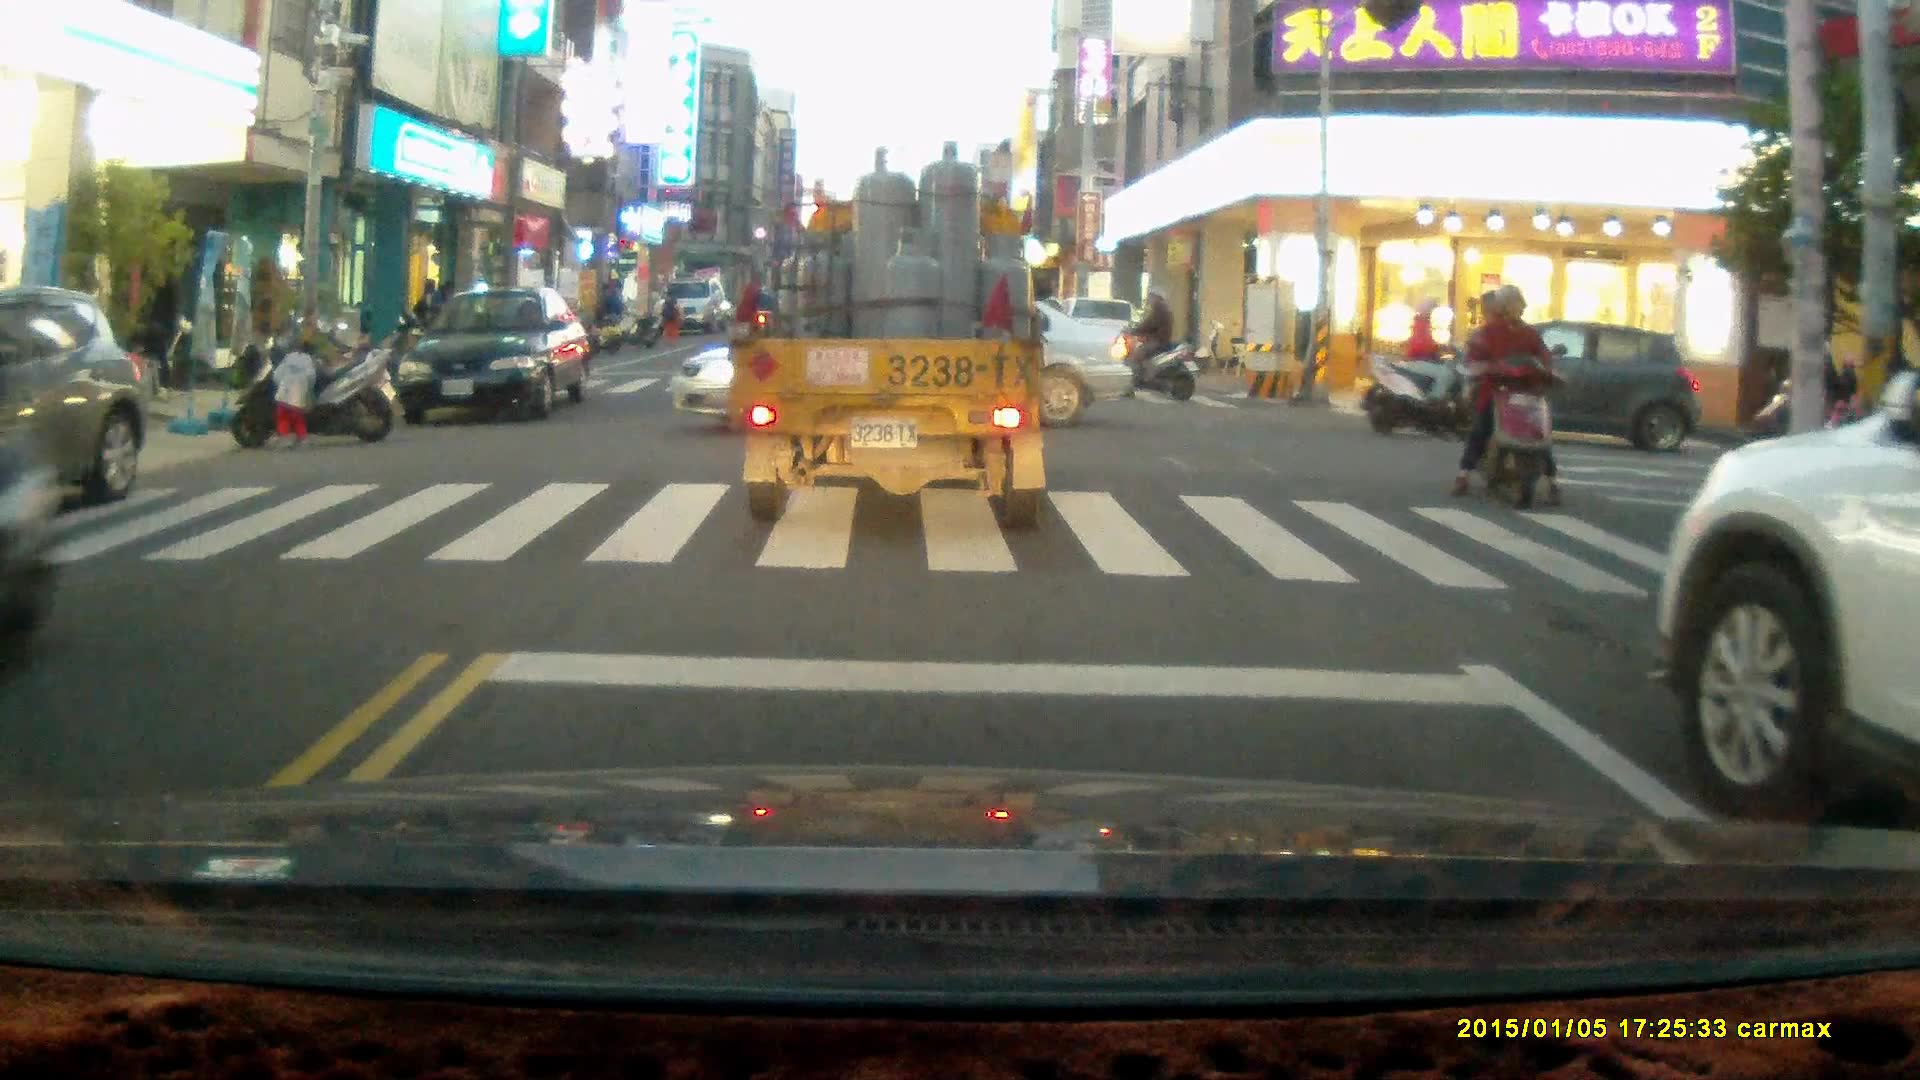pedestrian: (271, 339, 320, 452), (601, 278, 628, 341), (660, 286, 683, 344)
rider: (1451, 285, 1567, 513), (1360, 297, 1500, 440), (1746, 341, 1860, 461), (1102, 283, 1197, 403)
vehicle: (726, 137, 1050, 528), (1647, 370, 1920, 823), (1400, 324, 1699, 454), (393, 290, 594, 424), (654, 280, 729, 335)
